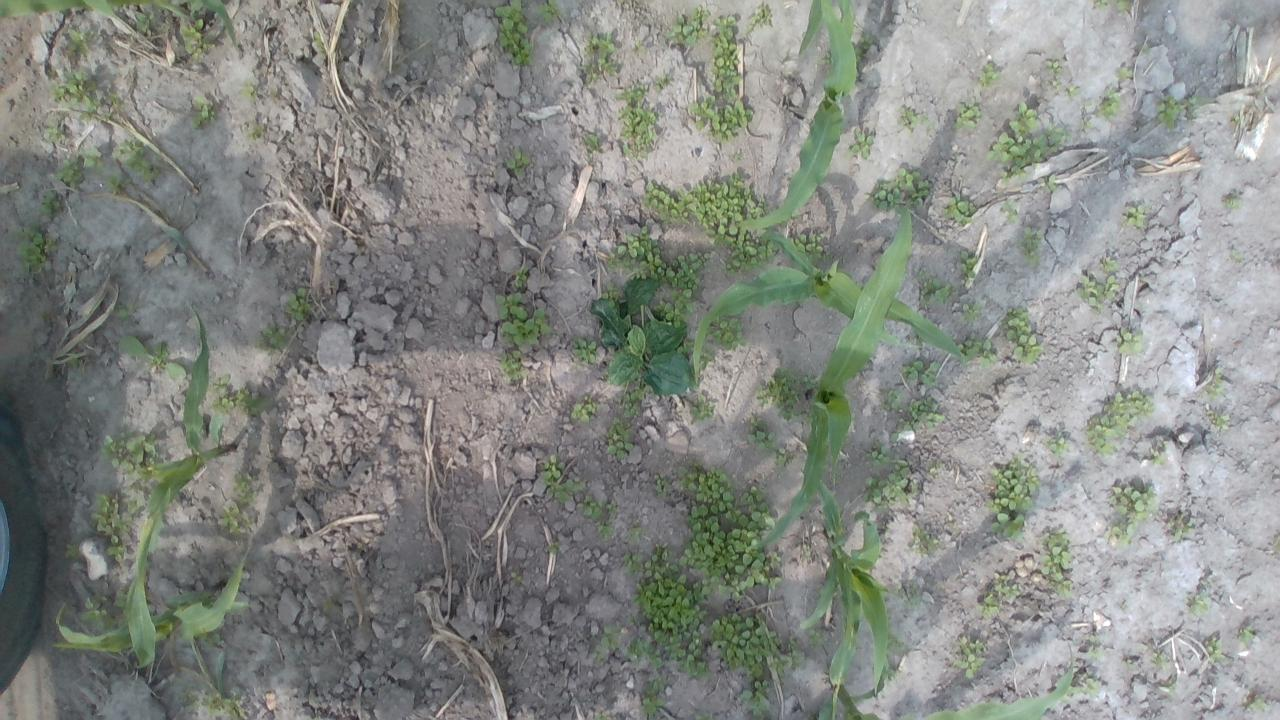Maize: (754, 207, 912, 544), (690, 233, 969, 384), (126, 312, 234, 664), (50, 487, 254, 654), (736, 0, 858, 233), (798, 479, 888, 720), (828, 650, 1074, 720), (0, 0, 239, 48)
Weeds: (678, 460, 784, 600), (622, 542, 715, 684), (590, 276, 694, 397), (686, 173, 782, 278), (987, 101, 1066, 184), (706, 612, 776, 680), (986, 454, 1040, 542), (1086, 391, 1154, 456), (754, 366, 818, 423), (493, 290, 552, 348), (615, 83, 658, 161), (690, 93, 754, 144), (118, 334, 187, 380), (101, 431, 161, 483), (606, 228, 663, 280), (869, 167, 930, 215), (862, 459, 916, 512), (999, 307, 1045, 368), (709, 15, 742, 98), (494, 0, 536, 65), (50, 70, 102, 121), (12, 223, 56, 277), (170, 0, 208, 60), (1040, 529, 1074, 595), (112, 139, 162, 183), (643, 180, 690, 225), (89, 490, 128, 544), (662, 250, 712, 292), (662, 6, 710, 46), (582, 31, 618, 83), (180, 688, 241, 718), (1110, 484, 1159, 521), (787, 230, 835, 264), (704, 313, 750, 348), (78, 594, 115, 634), (769, 636, 804, 678), (953, 636, 987, 678), (956, 332, 994, 369), (736, 679, 770, 720), (916, 270, 952, 306), (906, 398, 944, 432), (638, 676, 668, 716), (606, 416, 634, 458), (590, 624, 620, 662), (222, 504, 254, 538), (747, 415, 778, 450), (208, 374, 235, 414), (1076, 274, 1104, 312), (941, 195, 976, 225), (236, 389, 273, 417), (63, 28, 98, 57), (255, 320, 288, 350), (846, 128, 876, 160), (190, 95, 218, 129), (544, 479, 585, 502), (500, 350, 530, 381), (901, 360, 938, 385), (1020, 226, 1043, 266), (56, 157, 84, 189), (1154, 94, 1180, 128), (286, 286, 312, 320), (952, 102, 982, 131), (1096, 88, 1122, 121), (232, 474, 258, 505), (912, 526, 940, 554), (993, 573, 1020, 602), (1106, 522, 1137, 546), (571, 336, 597, 364), (1116, 327, 1144, 353), (506, 147, 531, 176), (622, 386, 644, 418), (570, 398, 598, 423), (895, 582, 921, 608), (746, 6, 770, 34), (976, 63, 1002, 88), (1205, 365, 1223, 400), (976, 595, 1000, 621), (38, 191, 61, 218), (80, 145, 105, 169), (879, 388, 905, 411), (576, 496, 602, 519), (1168, 516, 1194, 539), (542, 454, 564, 481), (1183, 94, 1204, 122), (536, 0, 560, 24), (691, 395, 714, 420), (105, 535, 126, 562), (1121, 206, 1146, 228), (696, 344, 716, 371), (959, 250, 976, 280), (896, 105, 918, 128), (1207, 410, 1231, 431), (1084, 634, 1102, 660), (1190, 591, 1208, 617), (134, 11, 153, 35), (867, 444, 889, 464), (127, 497, 145, 521), (1207, 638, 1224, 663), (1151, 443, 1169, 466), (198, 629, 222, 646), (1000, 202, 1020, 222), (960, 302, 982, 320), (106, 174, 128, 192), (653, 470, 668, 496), (512, 266, 529, 288), (1046, 437, 1068, 454), (114, 304, 137, 320), (807, 628, 826, 647), (1037, 174, 1057, 192), (886, 636, 908, 652), (1104, 274, 1118, 299), (1238, 626, 1254, 646), (1082, 679, 1100, 696), (882, 663, 898, 682), (46, 120, 61, 140), (242, 81, 257, 101), (201, 591, 218, 608), (114, 590, 130, 608), (1150, 652, 1168, 668), (314, 32, 326, 55), (654, 74, 671, 90), (1247, 696, 1266, 710), (598, 523, 615, 538), (890, 421, 904, 439), (1225, 196, 1243, 210), (831, 454, 840, 481), (582, 133, 600, 146), (851, 43, 863, 62), (65, 544, 79, 560), (248, 128, 262, 144), (860, 35, 874, 50), (628, 527, 642, 542), (1230, 248, 1244, 262), (1118, 67, 1133, 80), (773, 448, 786, 463), (928, 462, 944, 474), (921, 116, 937, 128), (1067, 83, 1080, 97), (1082, 117, 1096, 130), (1104, 257, 1118, 270), (1044, 62, 1062, 72), (694, 712, 714, 720), (1065, 686, 1081, 696), (592, 712, 610, 720), (547, 542, 560, 553), (70, 354, 80, 368), (1093, 0, 1107, 9), (803, 544, 812, 558), (1117, 0, 1128, 11), (606, 502, 618, 512), (822, 54, 832, 65), (110, 94, 120, 105), (1232, 115, 1240, 123)
